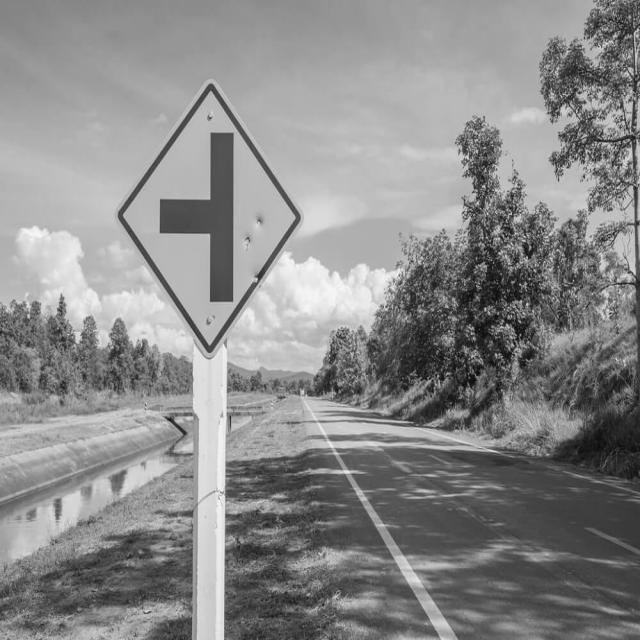side road left: (115, 78, 300, 356)
